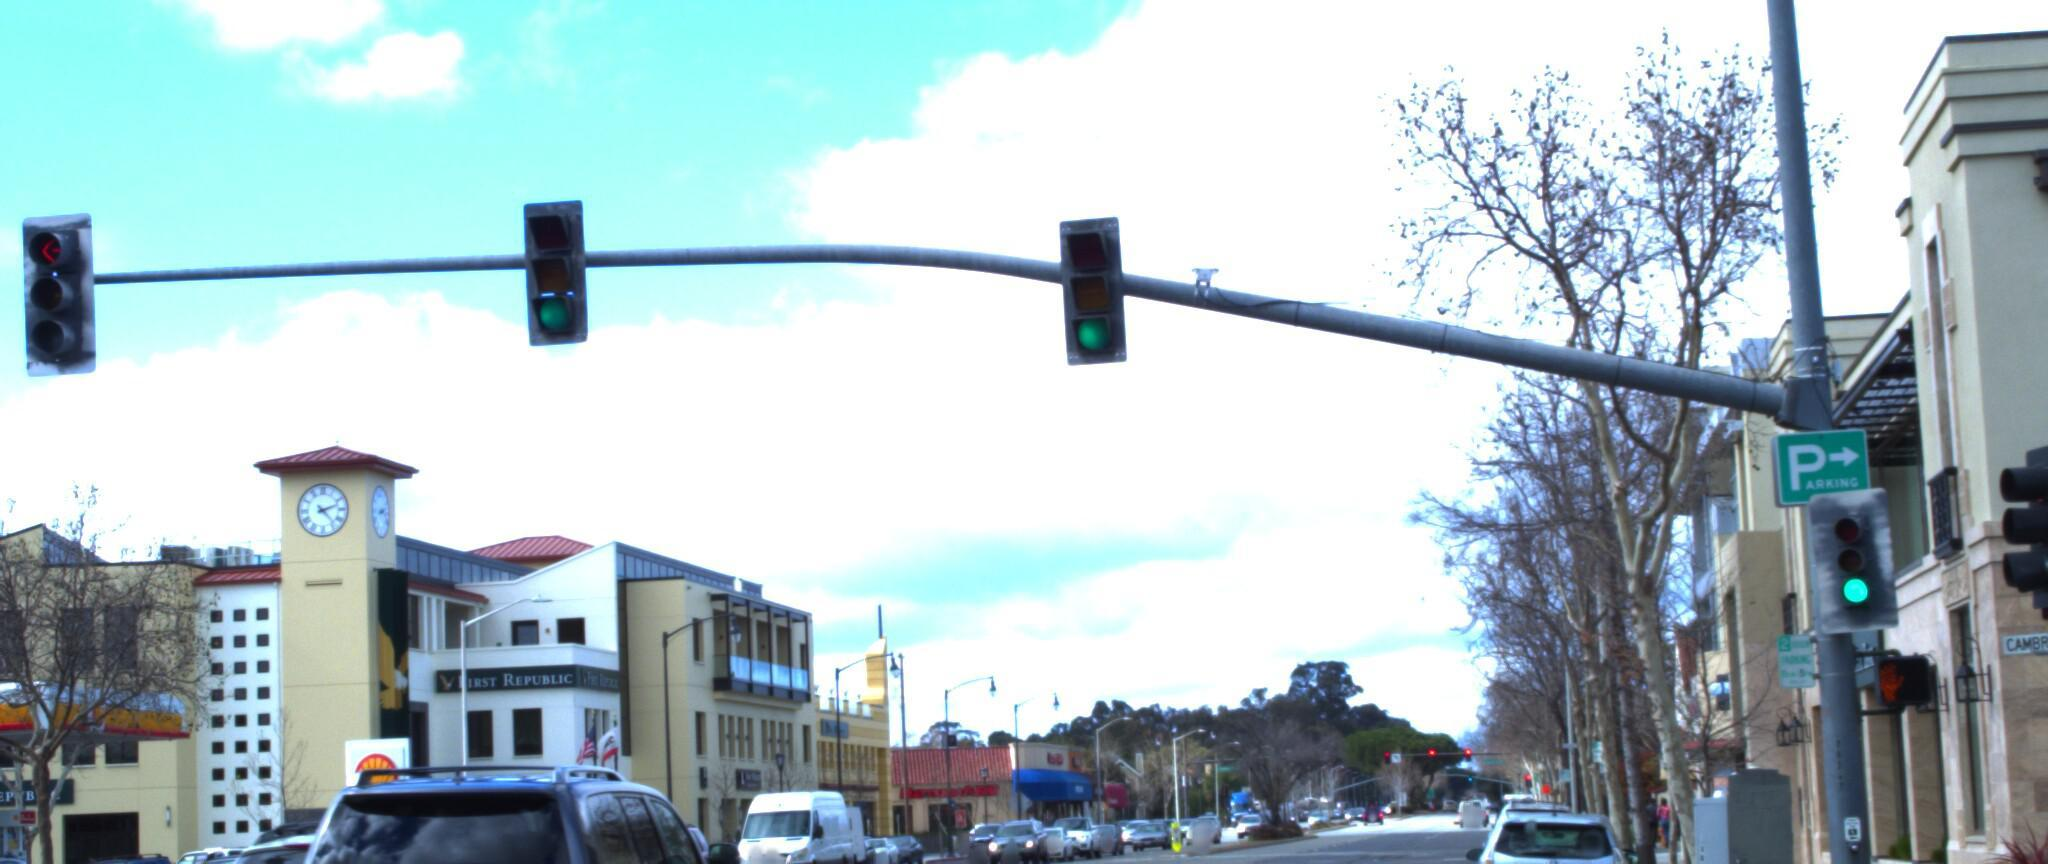car: (263, 731, 795, 864), (170, 765, 549, 864), (0, 587, 59, 864), (1459, 780, 1637, 864), (731, 760, 866, 864), (0, 824, 60, 864), (0, 848, 148, 864)
